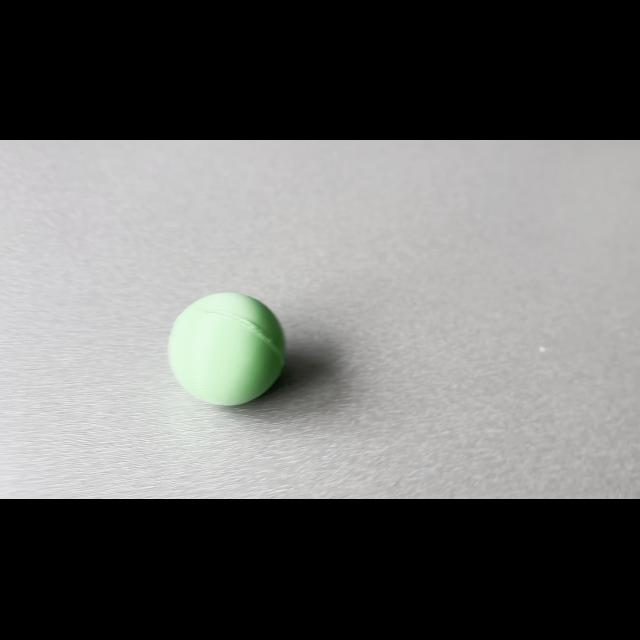objects: (163, 283, 293, 413)
